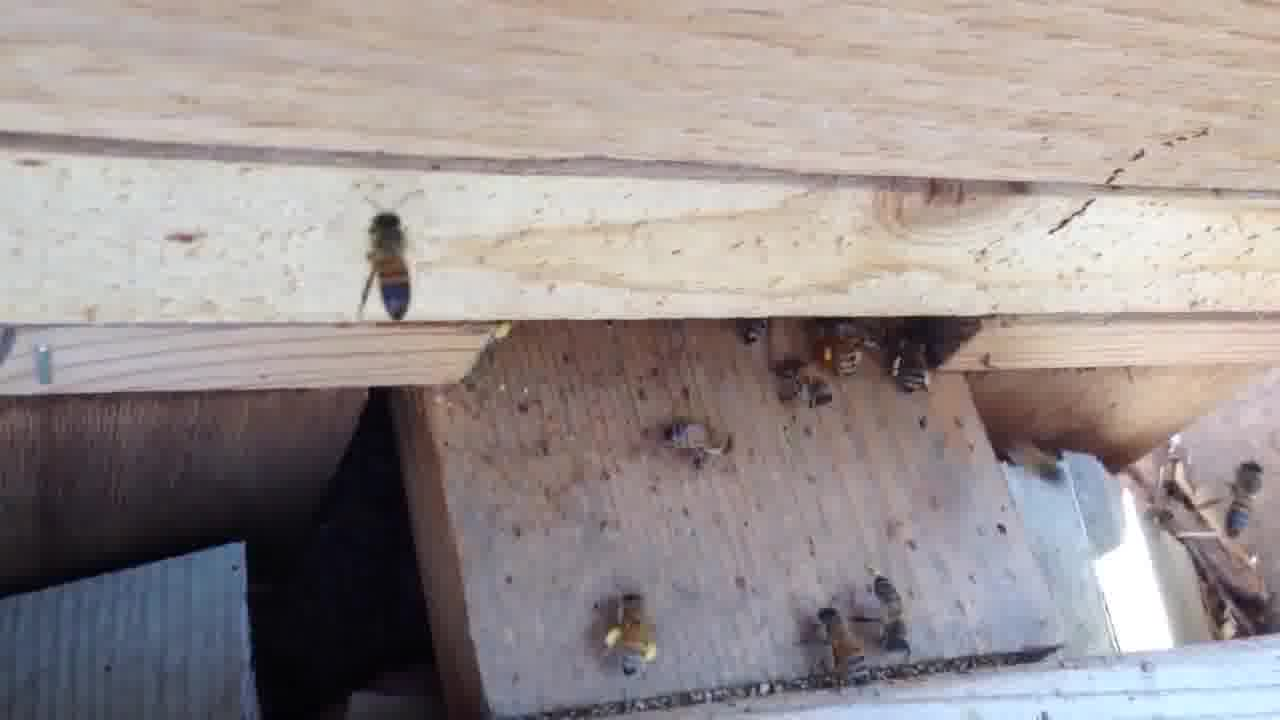pollen: (600, 580, 663, 676), (892, 322, 939, 399), (815, 318, 872, 380)
